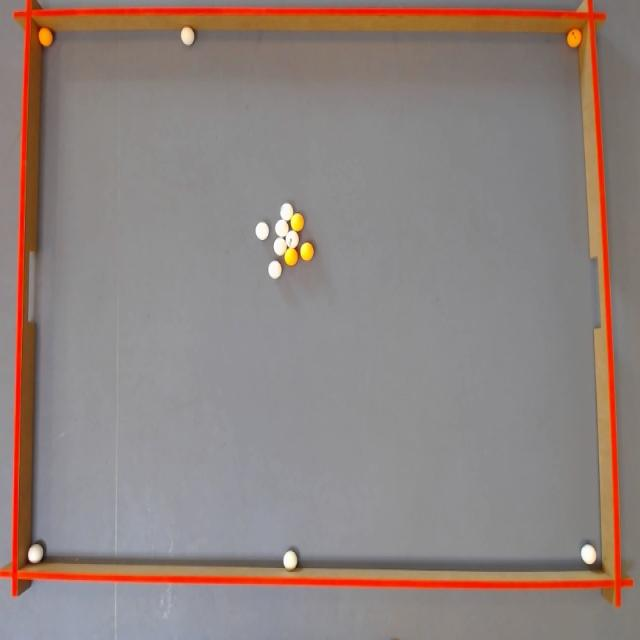orange_ball: (566, 28, 582, 48), (38, 26, 53, 46), (284, 247, 298, 266), (300, 242, 314, 260), (291, 213, 304, 231)
white_ball: (581, 543, 597, 565), (28, 543, 44, 564), (283, 550, 298, 570), (255, 222, 269, 240), (275, 219, 289, 237), (181, 27, 194, 46), (268, 260, 281, 278), (280, 202, 293, 220), (286, 230, 299, 248), (274, 238, 286, 255)
